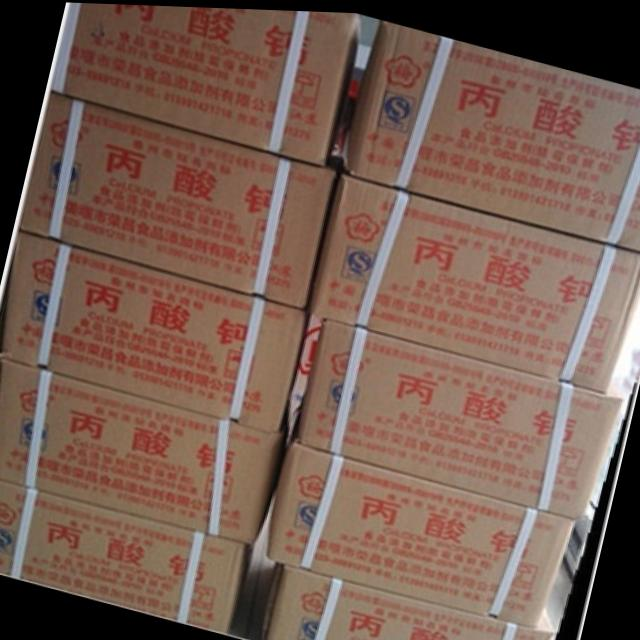box: (306, 171, 640, 389), (18, 92, 337, 306), (343, 17, 640, 246), (297, 315, 624, 515), (267, 415, 576, 623), (0, 231, 307, 430), (0, 360, 289, 543), (46, 2, 361, 163), (0, 481, 252, 634), (260, 561, 553, 640)
